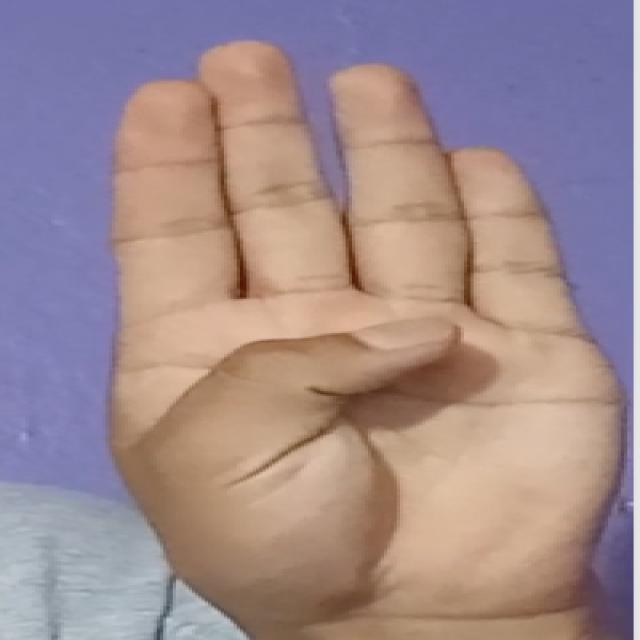B: (93, 29, 631, 616)
